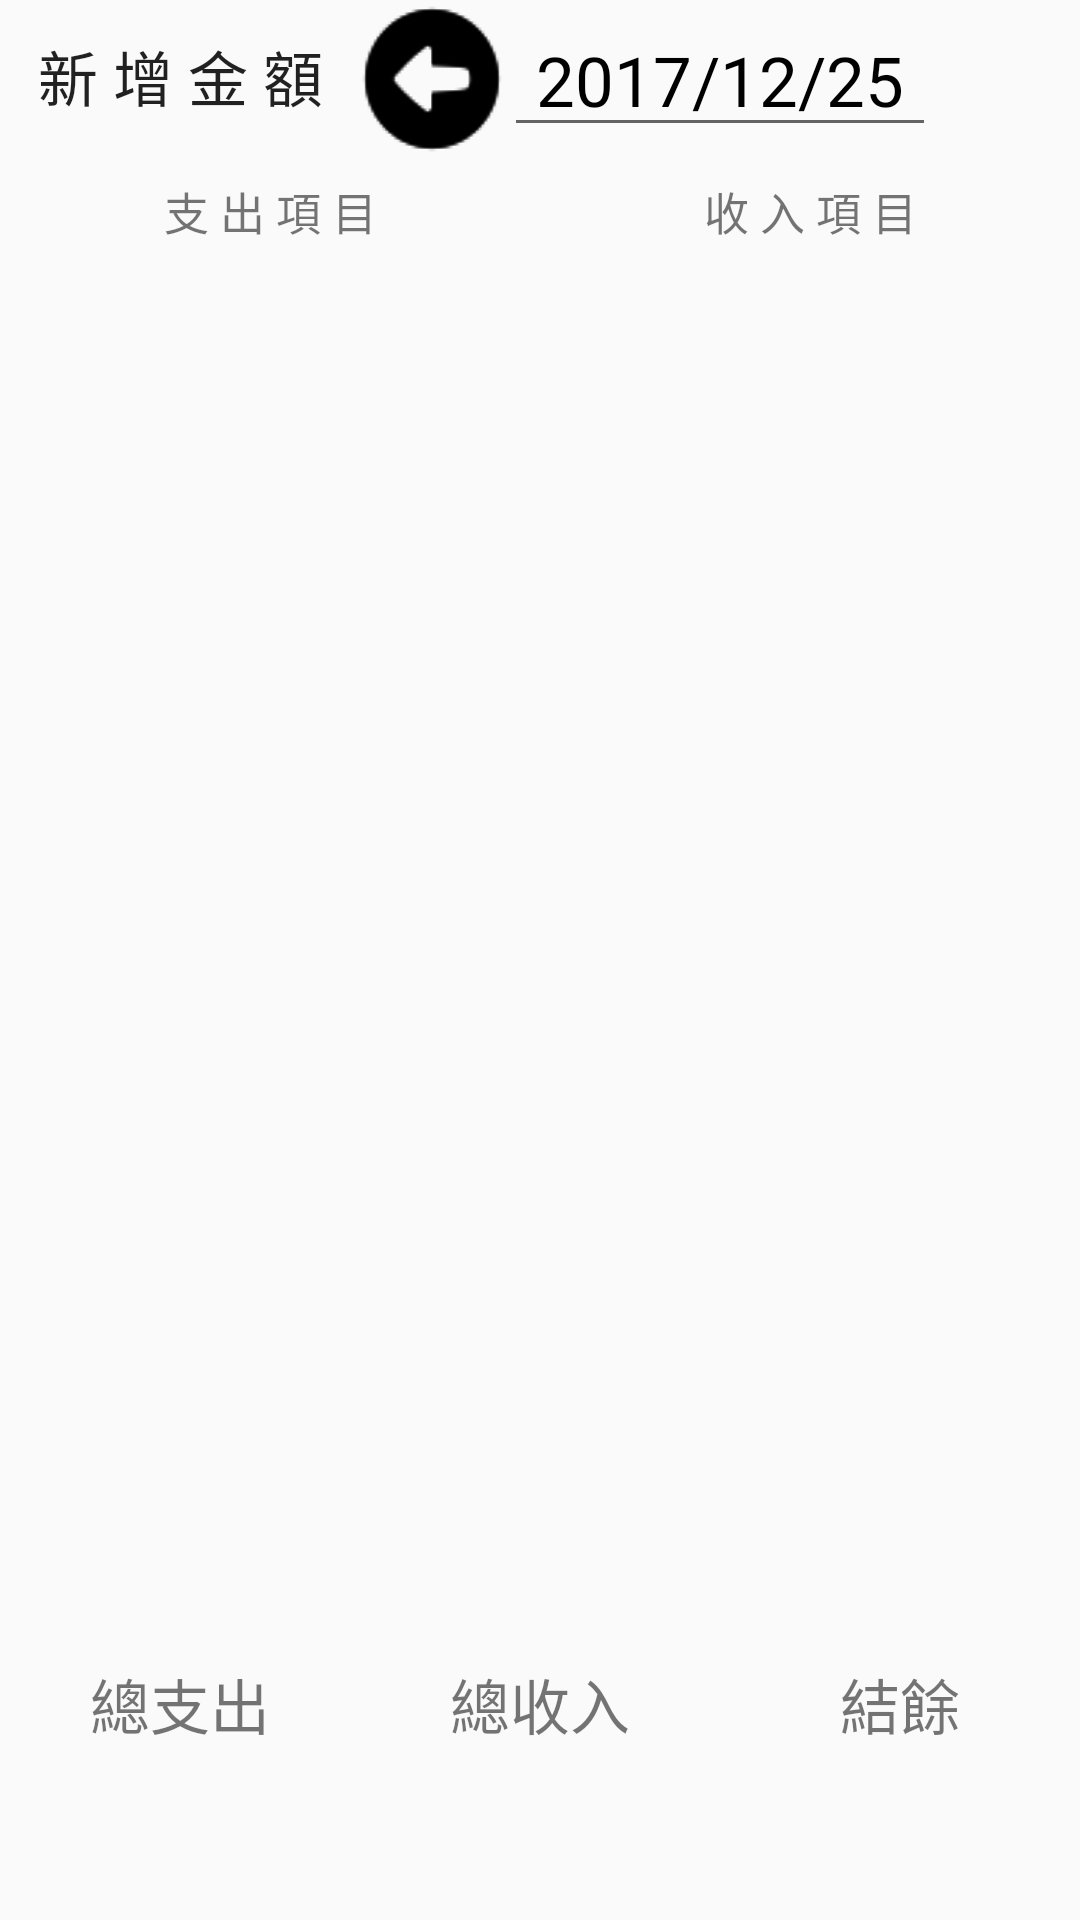

Locate icon controls on the screen. Image size 1080px×1920px, boxes as (x1, y1, x2, y2).
left: (364, 8, 500, 150)
